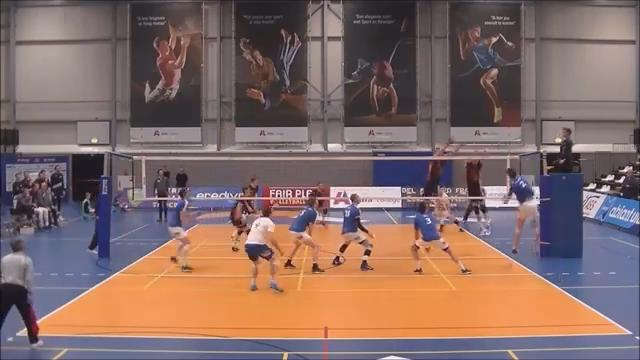Attack: (498, 162, 545, 258)
Block: (454, 143, 494, 236), (421, 147, 445, 228)
Player: (411, 202, 470, 274), (245, 207, 282, 291), (333, 194, 373, 270), (284, 197, 323, 272), (167, 189, 192, 271), (230, 200, 252, 251), (435, 187, 456, 231), (310, 182, 328, 227), (246, 176, 258, 197)
ball: (442, 146, 453, 157)
